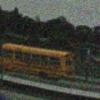buses: (0, 42, 77, 80)
